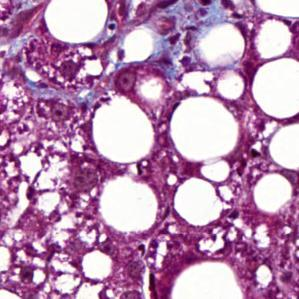steatosis: (253, 57, 299, 121), (45, 0, 109, 43)
